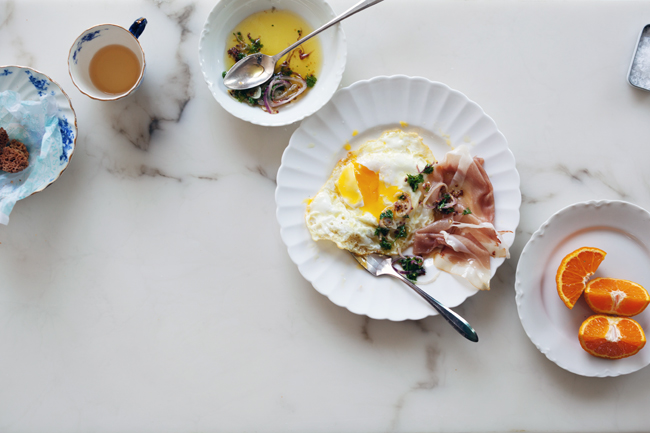fried egg: (306, 148, 426, 230)
